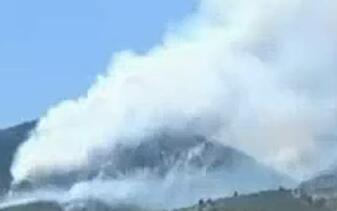smoke: (5, 1, 337, 206)
